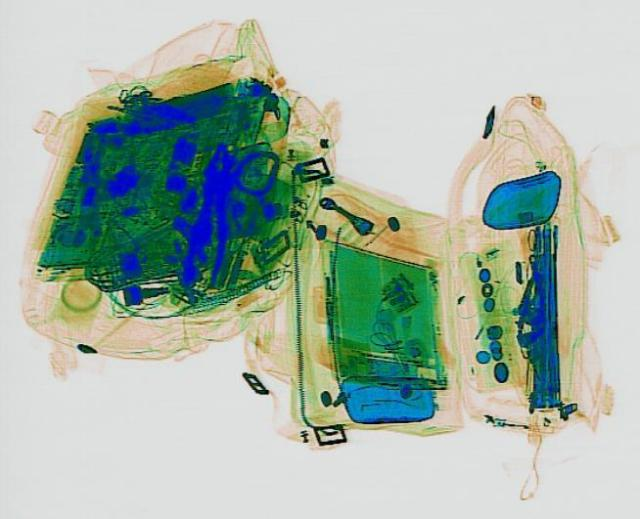Pliers: (176, 144, 244, 287)
